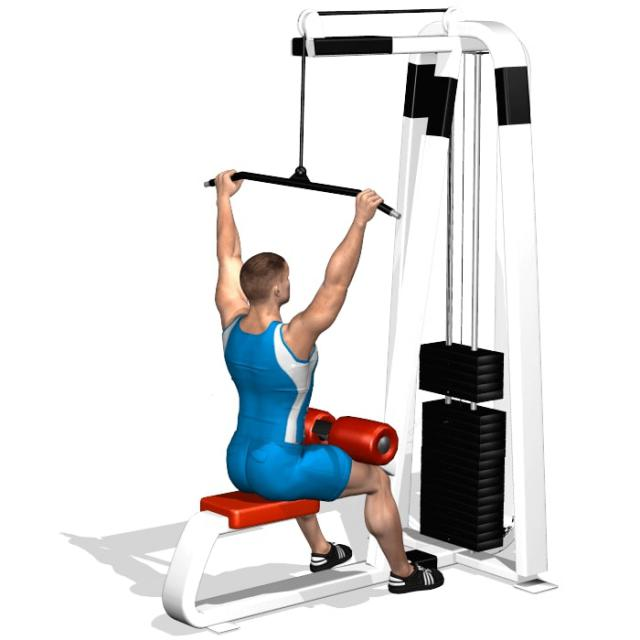Lat Machine: (139, 0, 569, 637)
